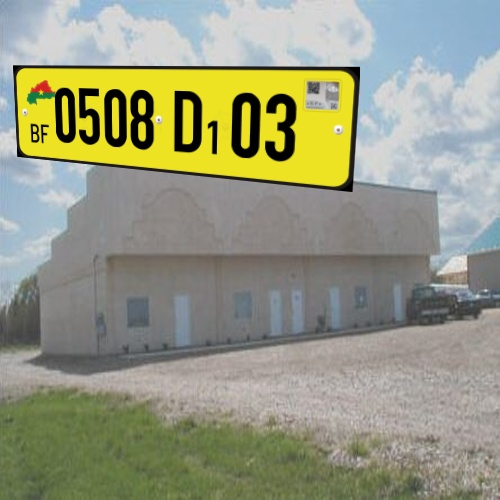plate: (9, 49, 367, 201)
